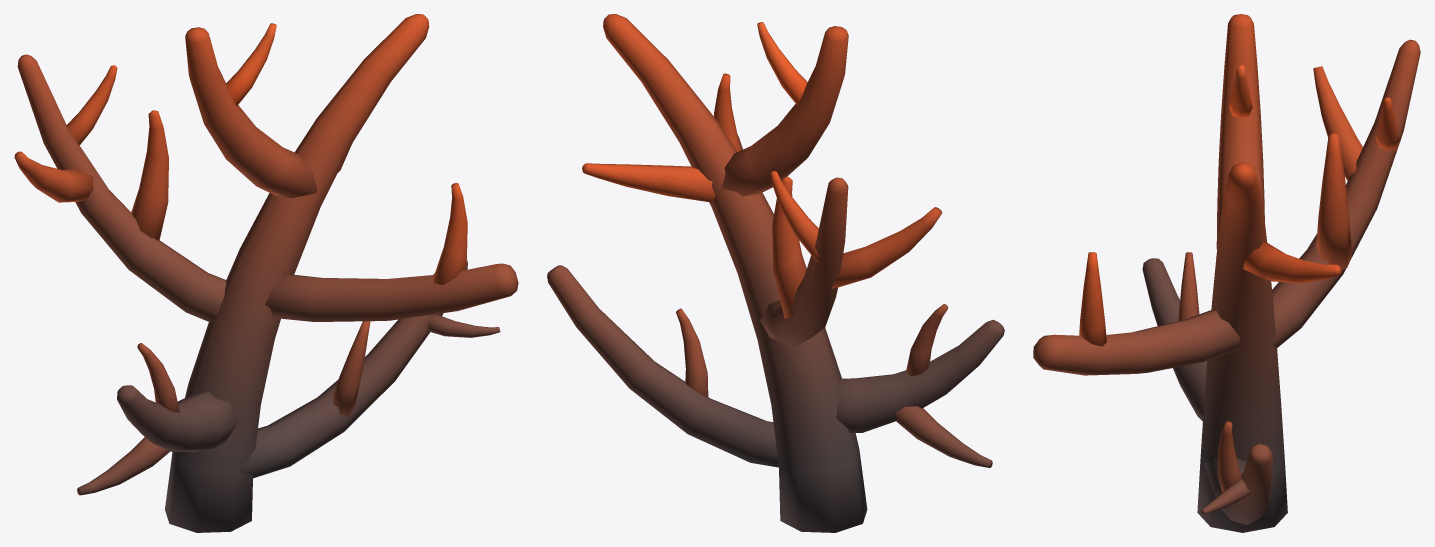
File: Coral_02.fbx
The picture shows the model from 3 angles, left to right: view 1: azimuth 30°, elevation 25°; view 2: azimuth 150°, elevation 25°; view 3: azimuth 270°, elevation 25°; orthographic projection.
Parts seen in each view (by area): view 1: Coral_02; view 2: Coral_02; view 3: Coral_02.
Part boxes in pixels (<box>): Coral_02: <box>14,14,518,532</box>; Coral_02: <box>547,14,1004,532</box>; Coral_02: <box>1033,14,1420,532</box>.
Bounding box in the file's own units: 183 × 200 × 142.
